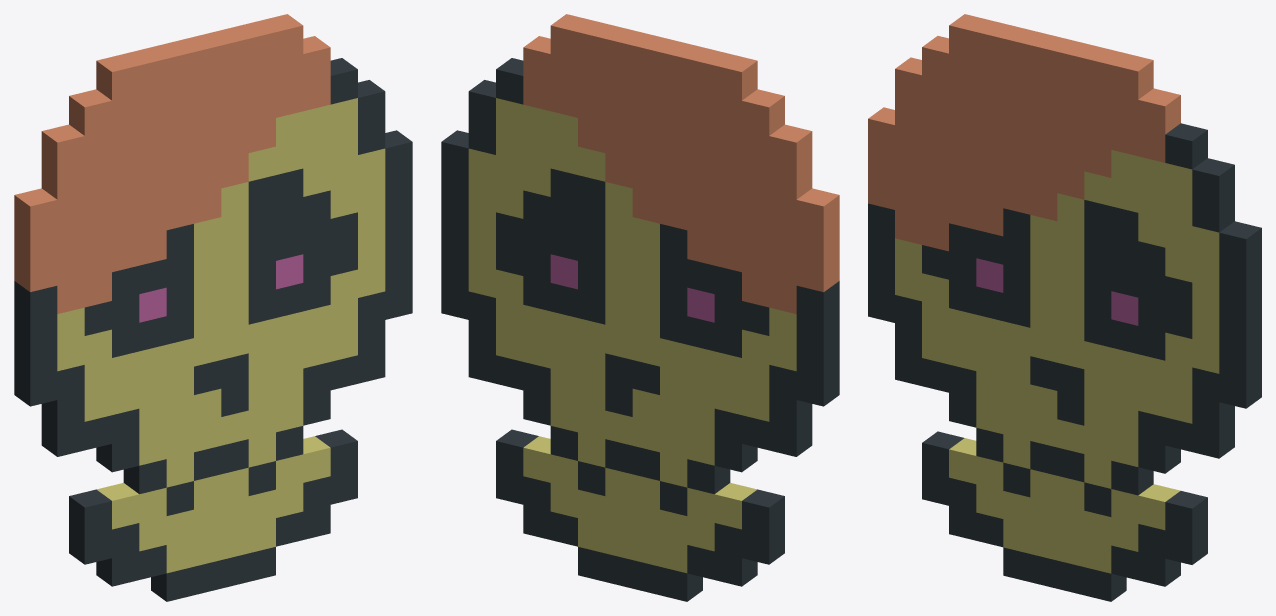
The picture shows the model from 3 angles, left to right: view 1: azimuth 30°, elevation 25°; view 2: azimuth 150°, elevation 25°; view 3: azimuth 330°, elevation 25°; orthographic projection.
Bounding box in the file's own units: 0.7 × 0.95 × 0.05.
